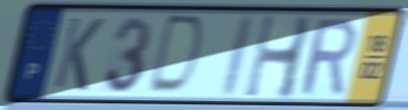3: (104, 14, 154, 96)
D: (144, 12, 208, 99)
H: (241, 11, 316, 102)
I: (216, 11, 258, 101)
K: (50, 14, 106, 94)
R: (298, 15, 357, 99)
